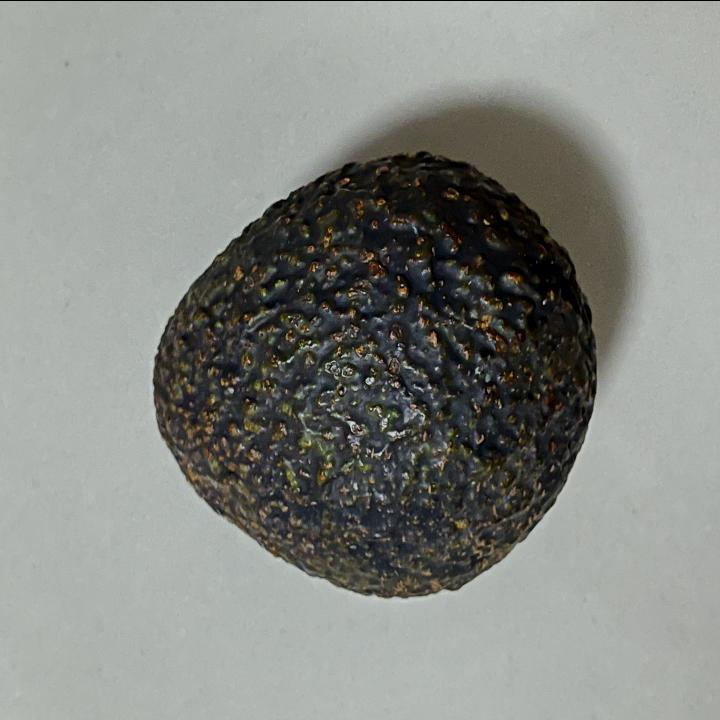Level2: (145, 145, 604, 608)
